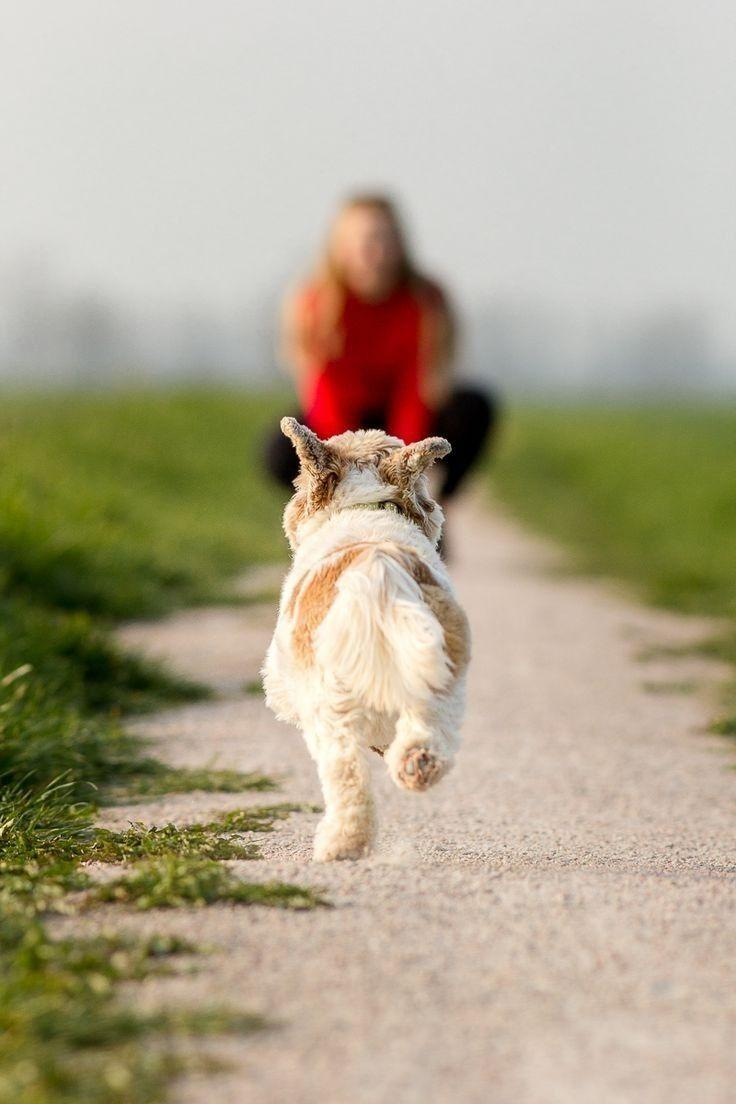adult_dog: (263, 419, 473, 865)
non-dog: (264, 186, 498, 544)
